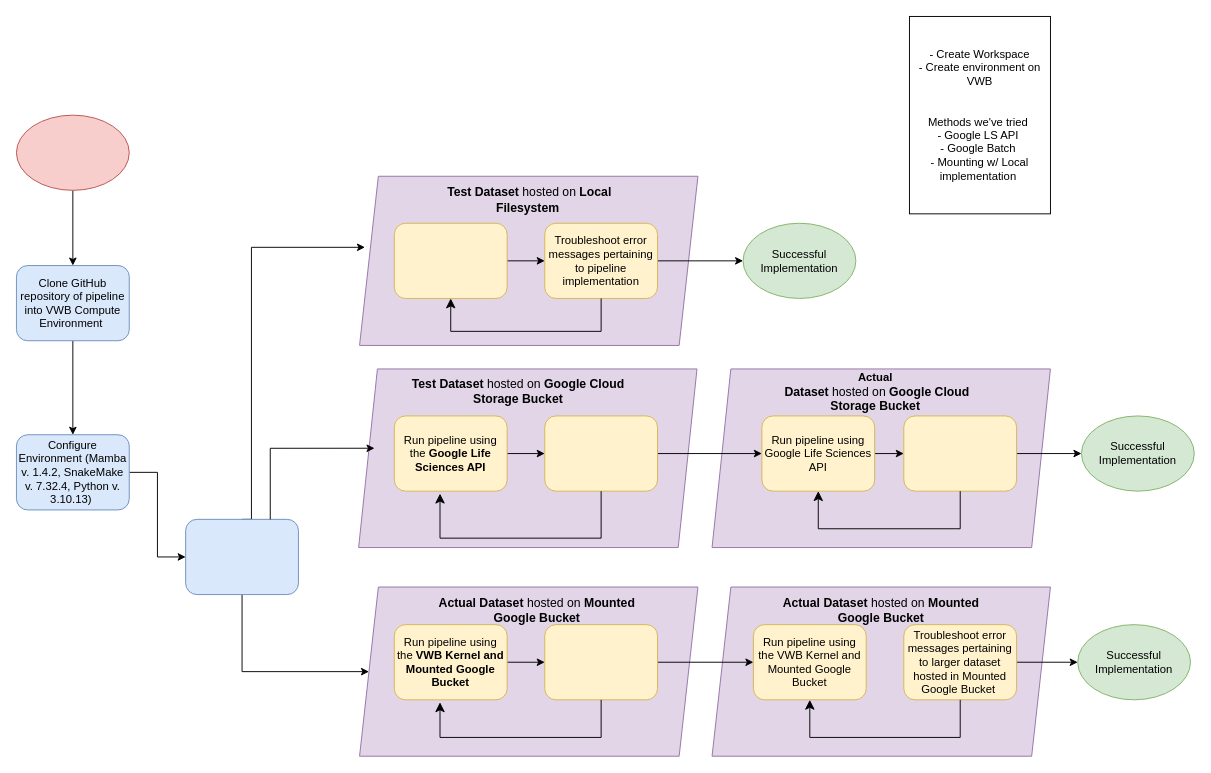
Some shapes in this 1211 by 773 pixel diagram are drawn without their labels. The centre of each missing label's shape, as x and y in pixels:
"Run pipeline using VWB Kernel" goes at point (450, 260).
"Start" goes at point (72, 152).
"Transfer input files to required storage locations" goes at point (241, 556).
"Troubleshoot error messages pertaining to larger dataset in LS API" goes at point (960, 453).
"Troubleshoot error messages pertaining to LS API" goes at point (601, 453).
"Troubleshoot error messages pertaining to using data in Mounted Google Bucket" goes at point (601, 662).
